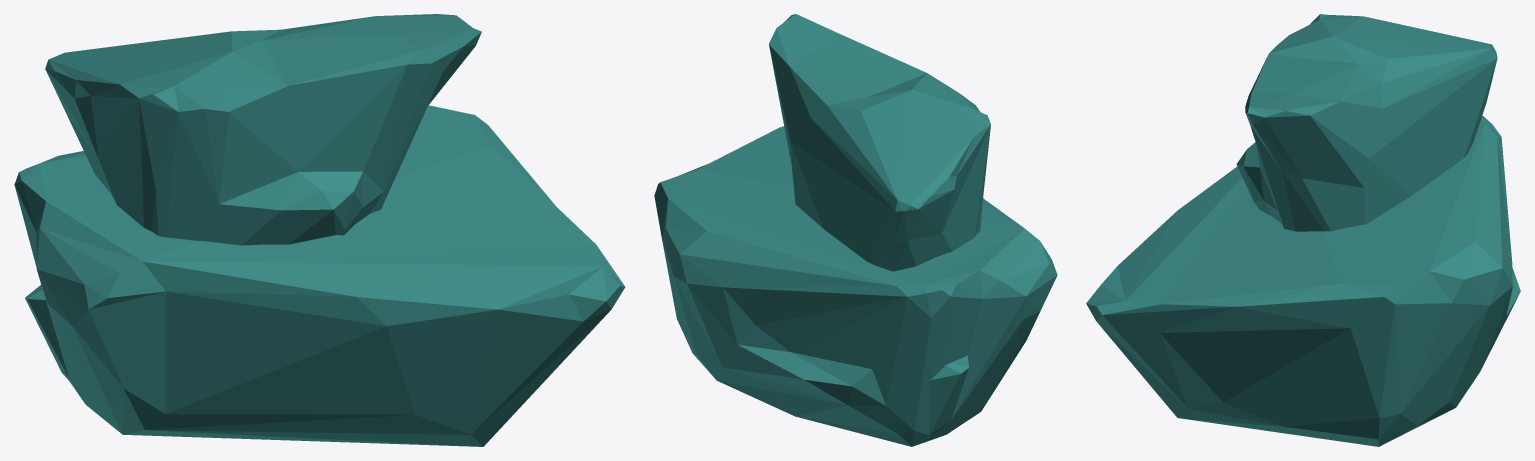
The model's file is SM_Rock_Sea_Medium_Flat_B.fbx.
3 views of the same model, side by side, from view 1: azimuth 30°, elevation 25°; view 2: azimuth 150°, elevation 25°; view 3: azimuth 270°, elevation 25° (orthographic). The views are drawn at different scales.
Parts seen in each view (by area): view 1: rock-sea-medium-flat-b; view 2: rock-sea-medium-flat-b; view 3: rock-sea-medium-flat-b.
Part boxes in pixels (left/top/right/bottom): rock-sea-medium-flat-b: left=14, top=14, right=625, bottom=446; rock-sea-medium-flat-b: left=654, top=14, right=1057, bottom=446; rock-sea-medium-flat-b: left=1086, top=14, right=1520, bottom=446.
Bounding box in the file's own units: 2.43 × 1.94 × 2.36.
